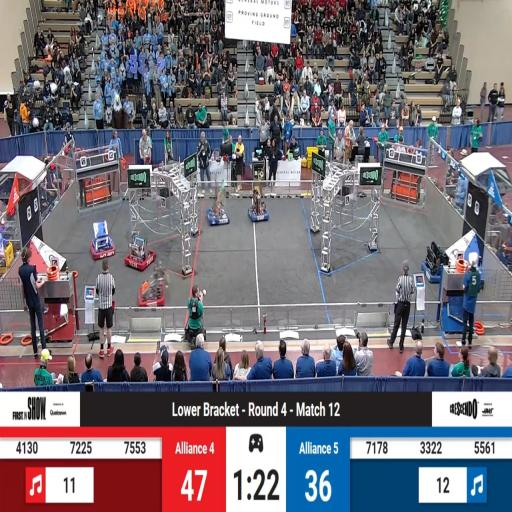robot: (138, 264, 167, 307), (420, 243, 448, 282), (125, 239, 156, 271), (90, 220, 114, 259), (247, 196, 269, 223), (208, 202, 229, 226)
